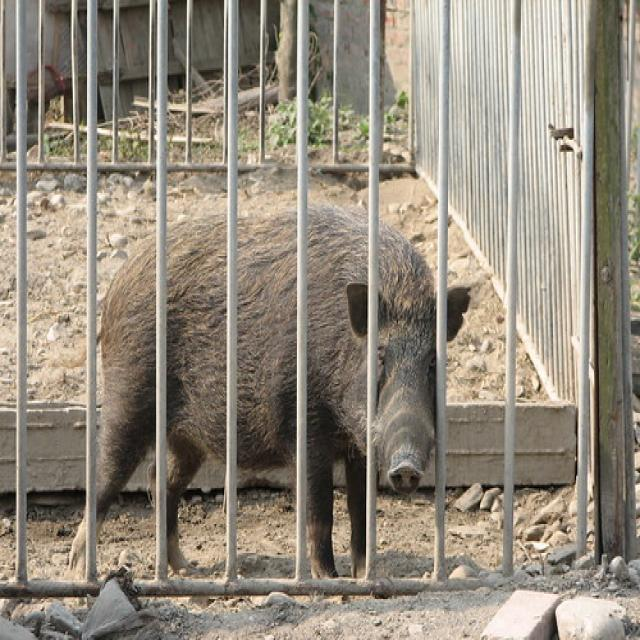boar: (63, 190, 480, 584)
